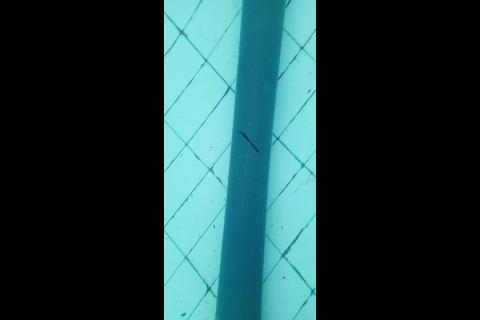keretakan: (236, 127, 260, 155)
